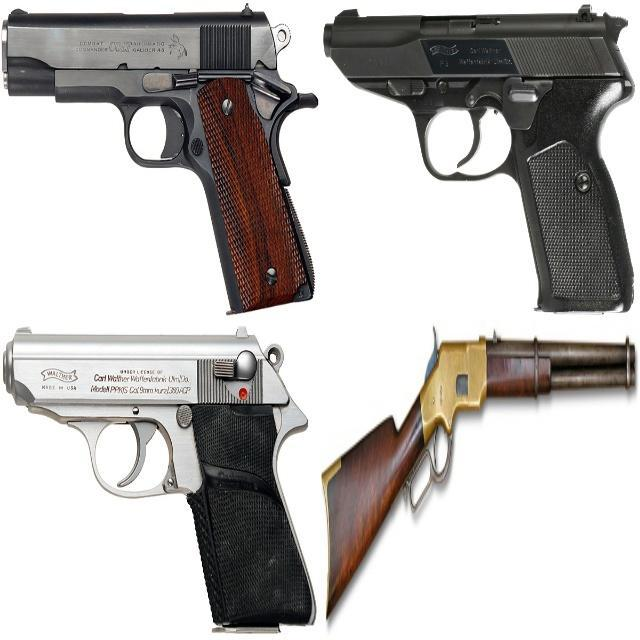gun-knife-thesis - v11 Yolov5 augmented: (320, 2, 635, 316), (324, 328, 634, 629), (7, 324, 298, 632), (1, 8, 308, 299)
